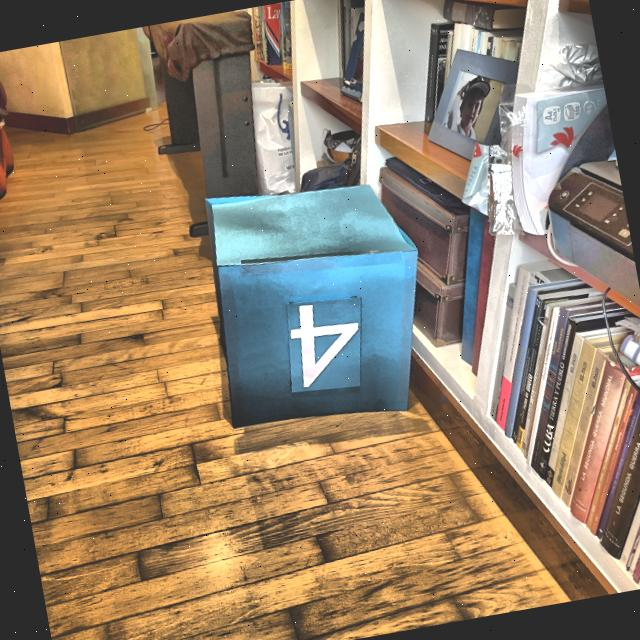blue box: (197, 164, 443, 442)
four: (284, 292, 371, 390)
